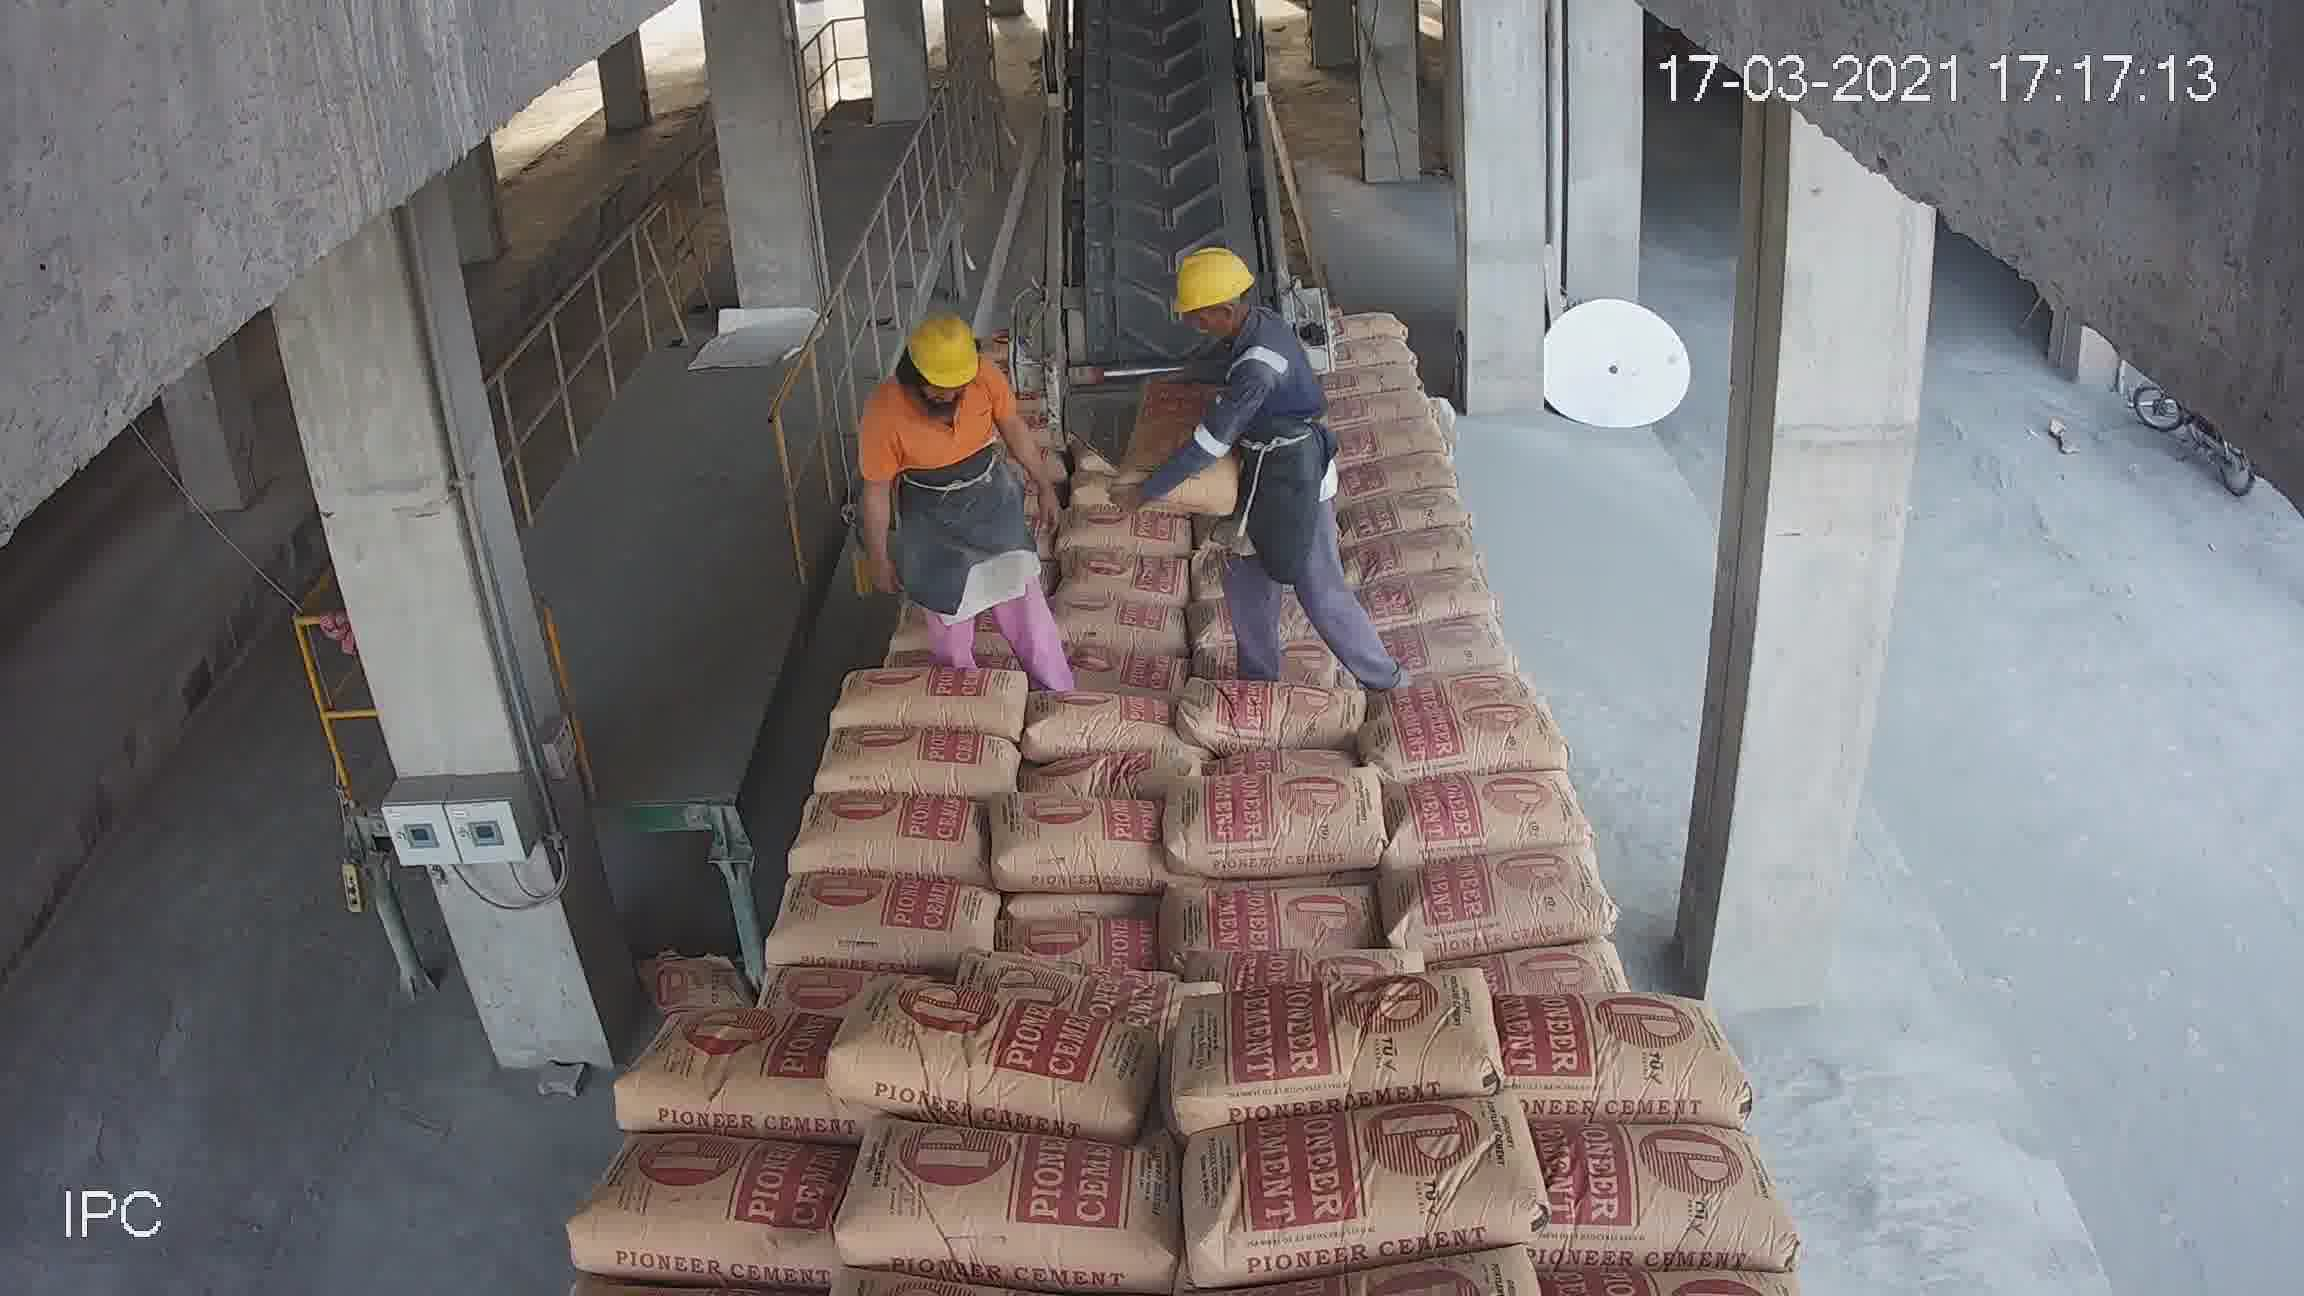bag_h: (1173, 1097, 1537, 1272), (1188, 962, 1518, 1124), (850, 1127, 1171, 1291), (804, 991, 1141, 1124), (574, 1131, 859, 1285), (1527, 1119, 1780, 1272), (1487, 991, 1737, 1127), (616, 1022, 843, 1144), (1171, 767, 1396, 878), (767, 877, 997, 975), (1378, 856, 1603, 949), (1169, 873, 1377, 968), (1391, 767, 1582, 866), (794, 783, 987, 880), (1372, 682, 1552, 779), (995, 798, 1165, 897), (812, 729, 1025, 802), (991, 885, 1157, 968), (836, 657, 1017, 733), (1176, 679, 1366, 747), (1022, 684, 1177, 764), (1177, 604, 1345, 677), (964, 956, 1184, 1010), (1378, 601, 1521, 684), (1051, 578, 1199, 655), (1059, 540, 1198, 611), (1048, 498, 1199, 562), (1359, 573, 1502, 630), (1388, 663, 1532, 718), (1355, 536, 1484, 585), (1362, 483, 1468, 540), (1347, 410, 1453, 465), (1351, 448, 1459, 495), (1351, 370, 1432, 415), (1348, 354, 1423, 394), (1347, 335, 1416, 372), (1334, 312, 1412, 340)
bag_v: (1116, 373, 1239, 519)
belt: (1054, 33, 1269, 451)
